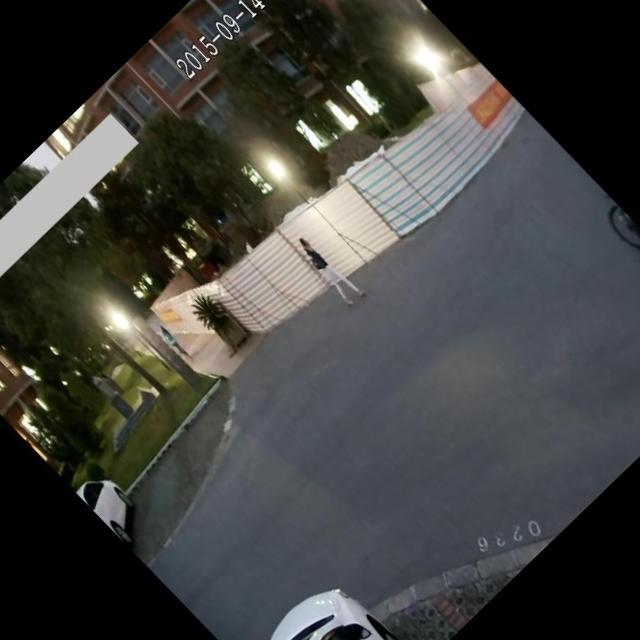person: (284, 222, 374, 314)
